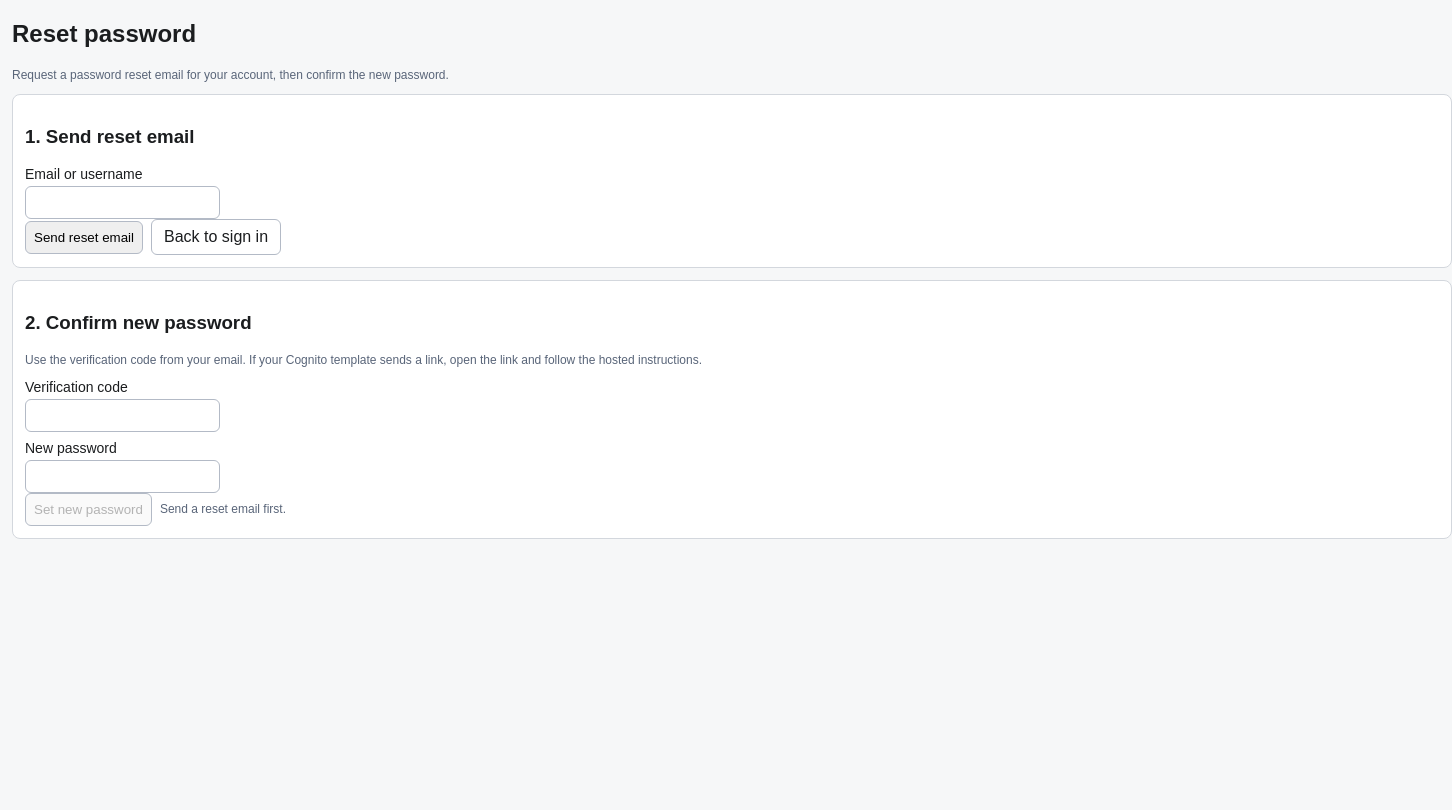
Test: ForgotPasswordPage › sends a reset email request and confirms a new password
In the field labelled "Email or username": (122, 203) x1=25 y1=186 x2=220 y2=219, type "athlete@example.com"
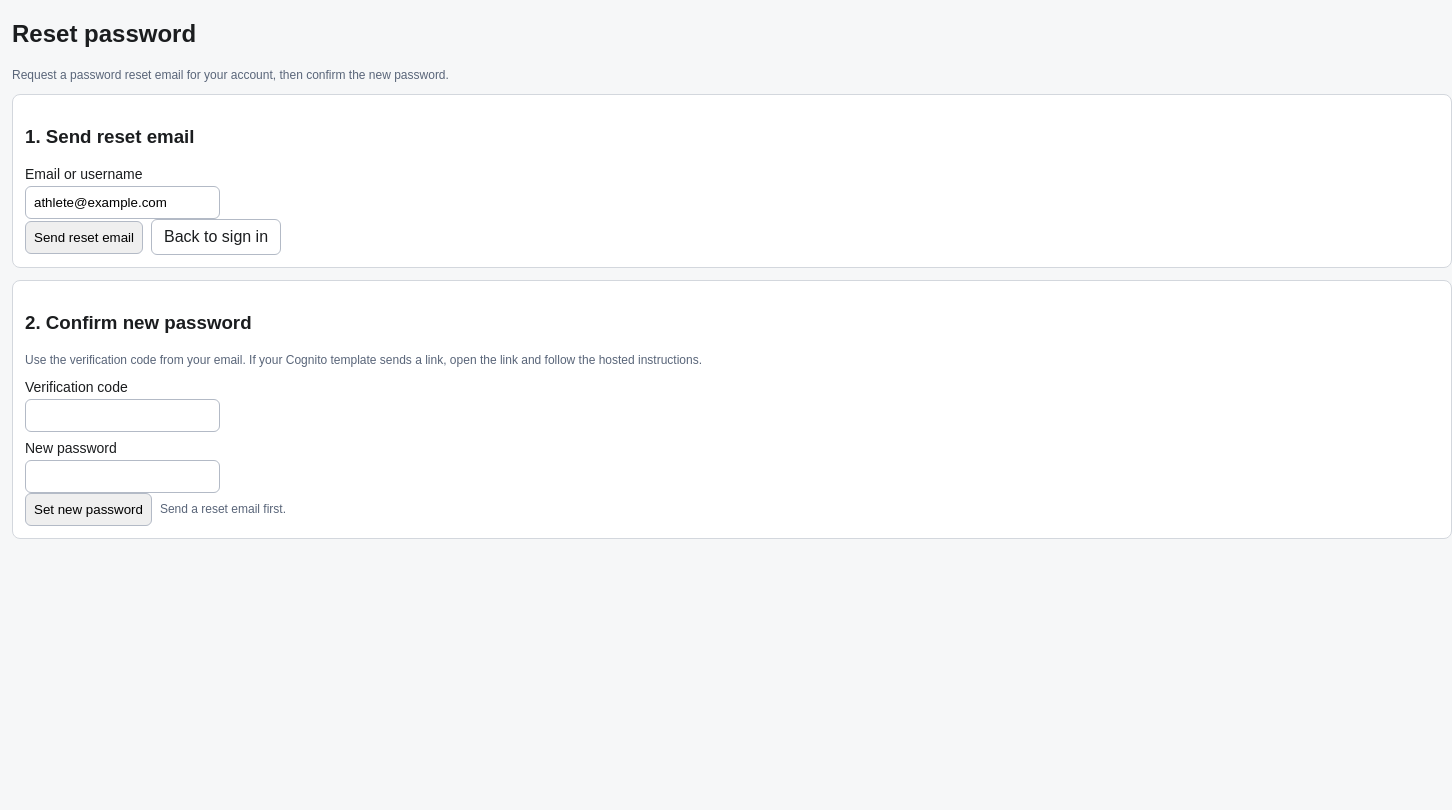
Click the button "Send reset email": (84, 237) x1=25 y1=221 x2=143 y2=254
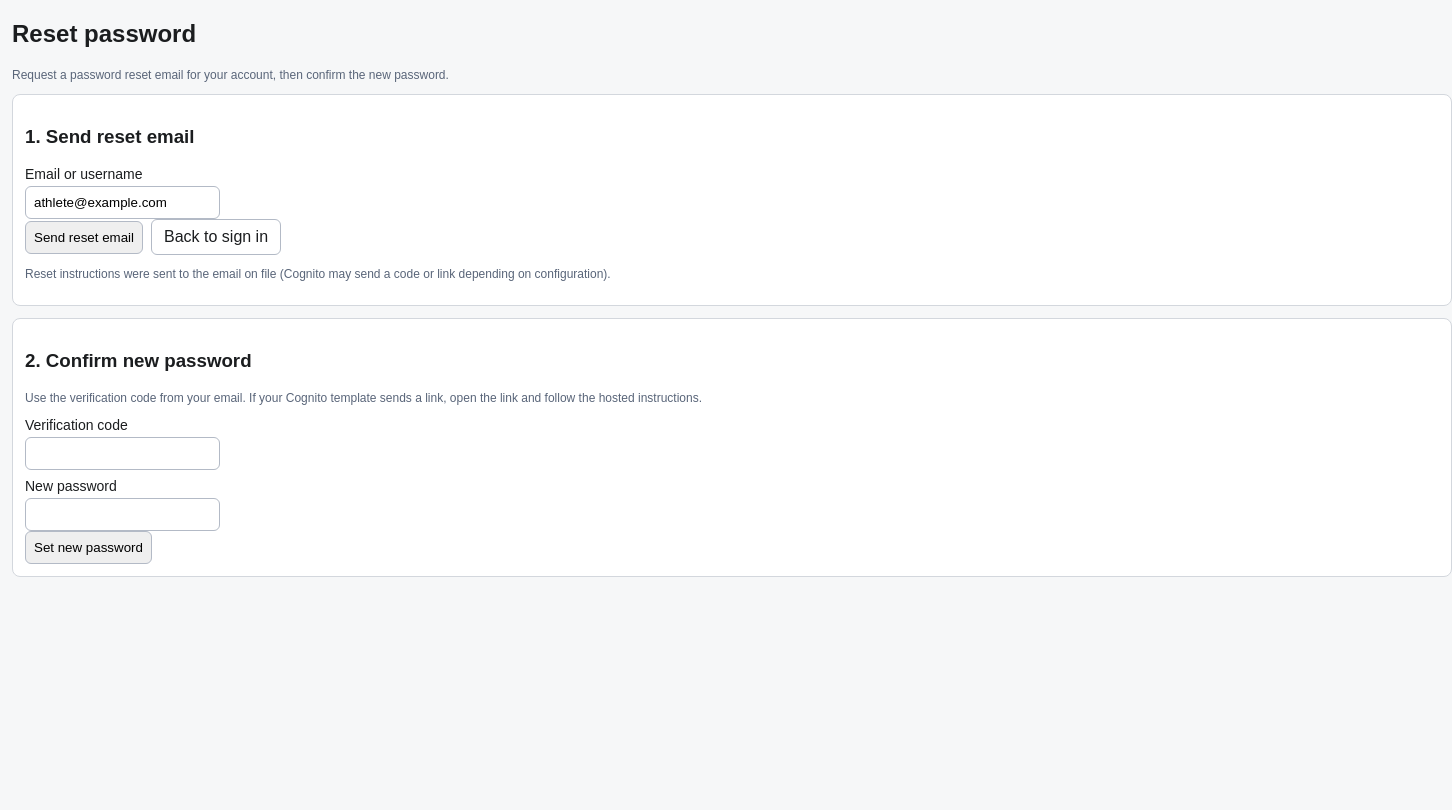
Check: the text "Reset instructions were sent to the email on file" is shown, box x1=25 y1=267 x2=611 y2=281
In the field labelled "Verification code": (122, 453) x1=25 y1=437 x2=220 y2=470, type "123456"
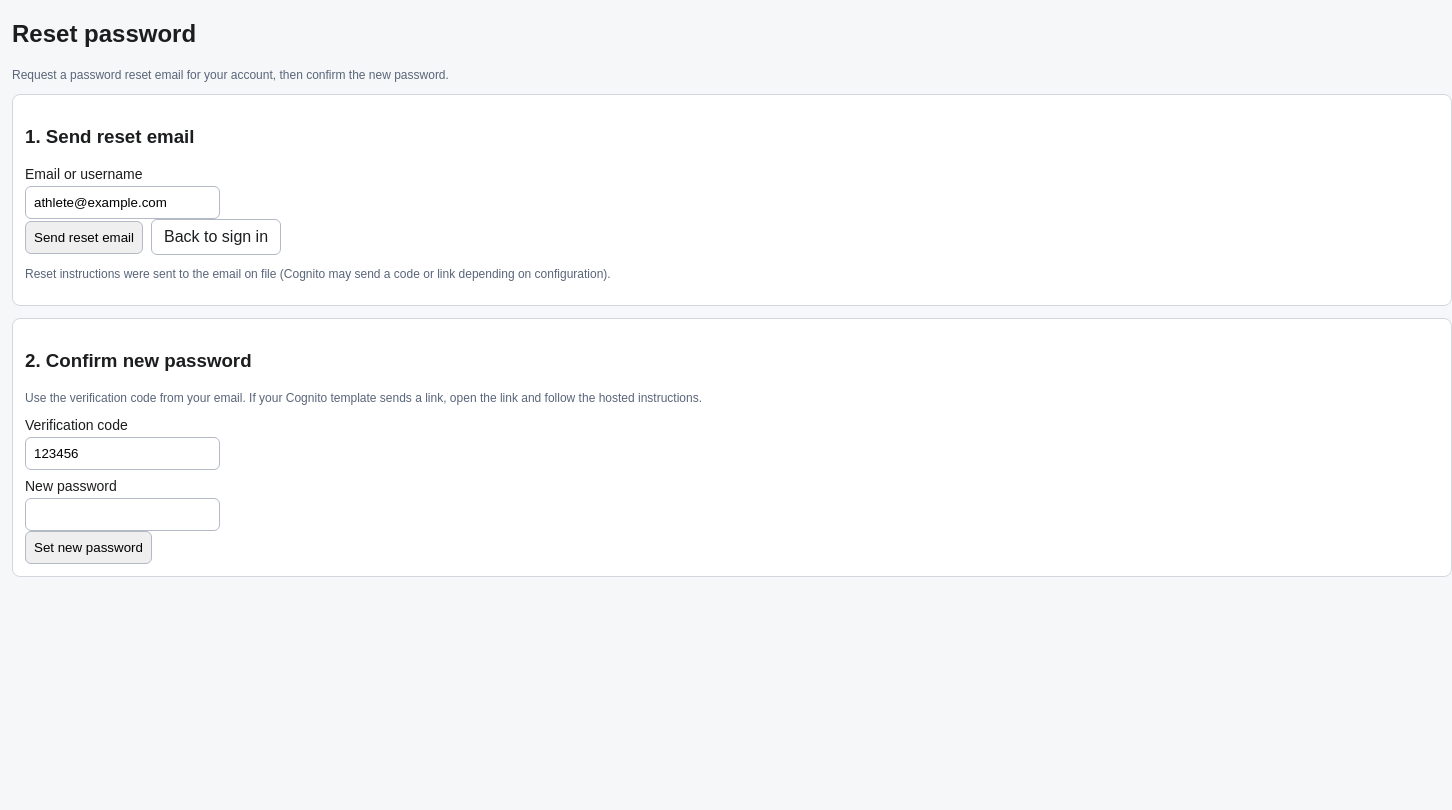
In the password field labelled "New password": (122, 514) x1=25 y1=498 x2=220 y2=531, type "NewPassword123!"
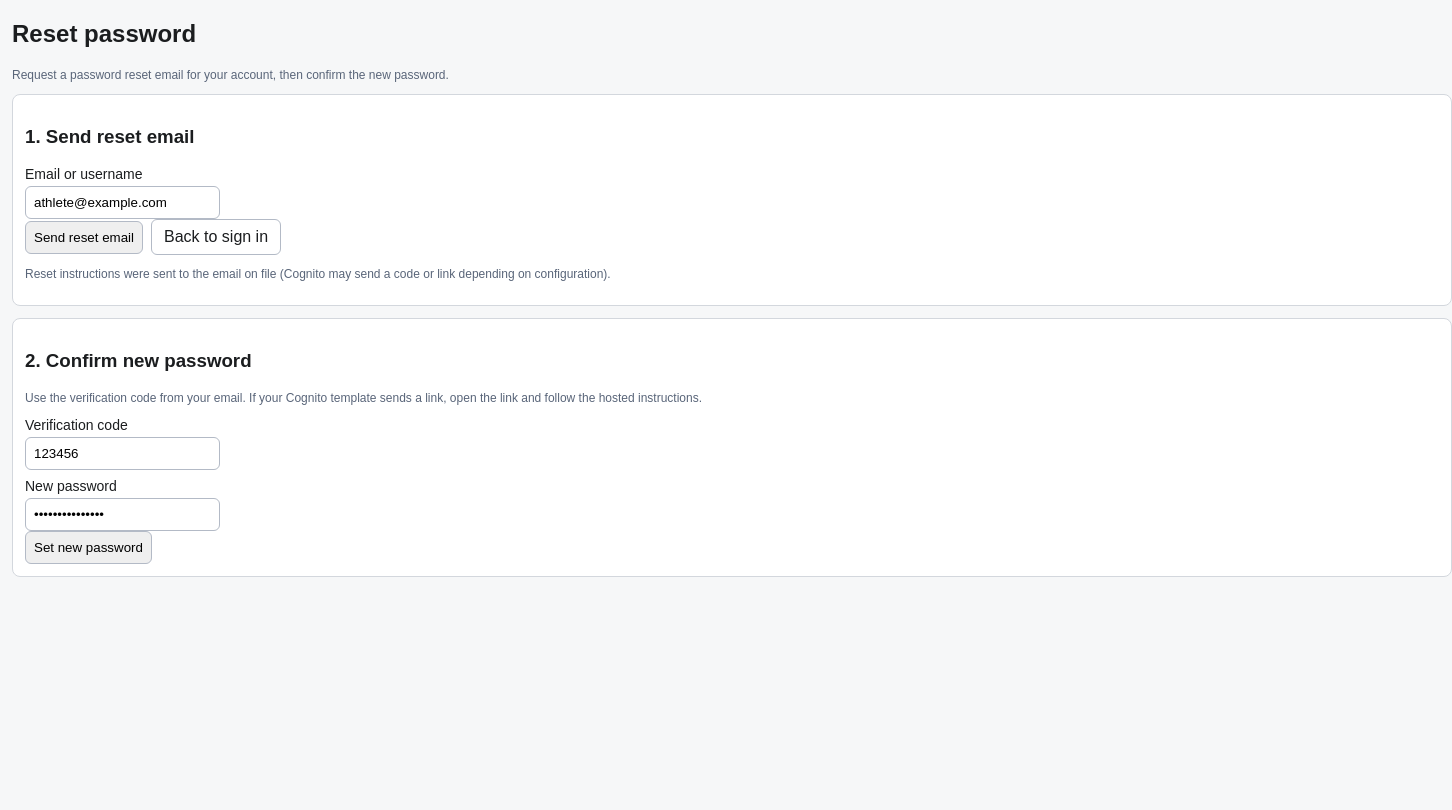
Click the button "Set new password": (88, 547) x1=25 y1=531 x2=152 y2=564
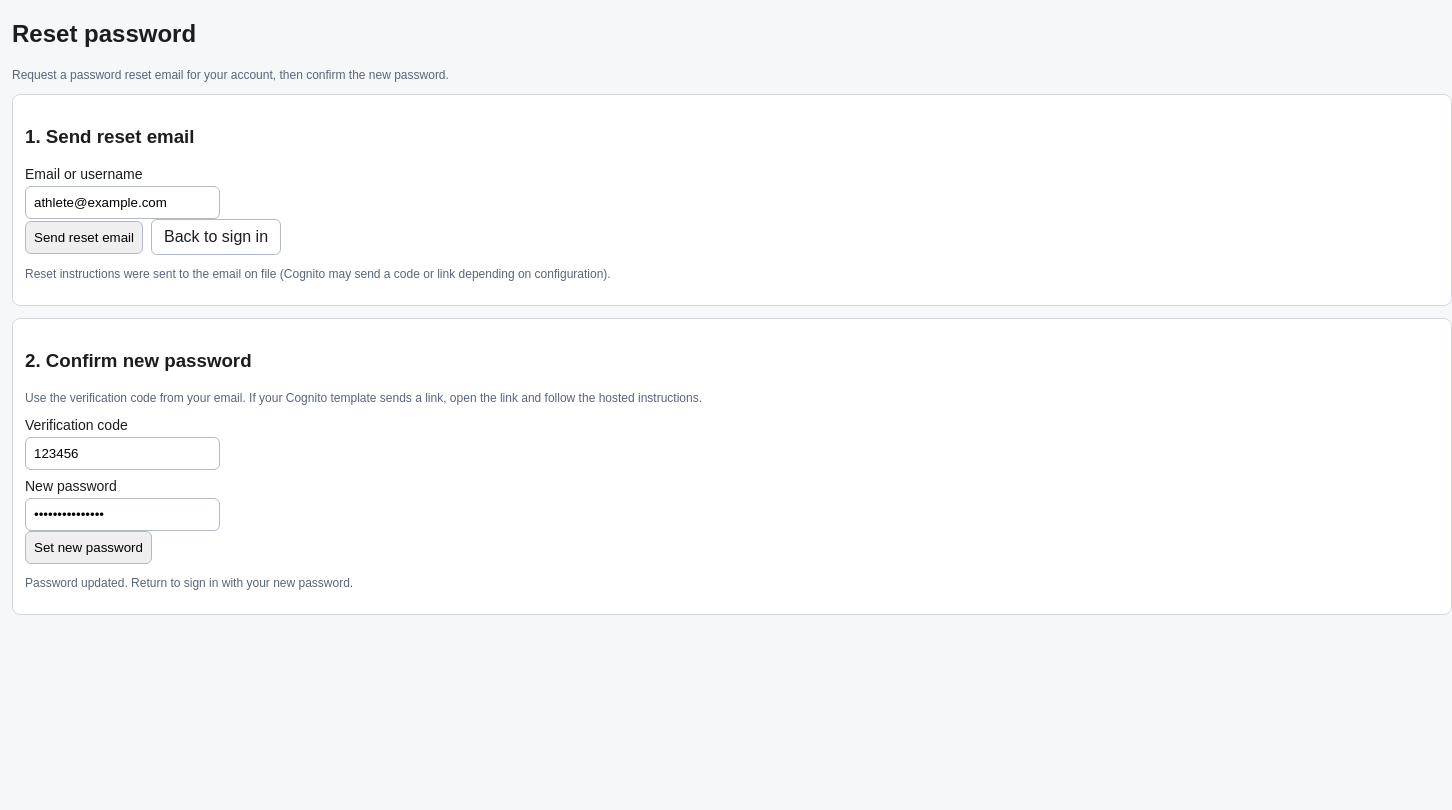
Check: the text "Password updated. Return to sign in with your new password." is shown, box x1=25 y1=576 x2=353 y2=590
